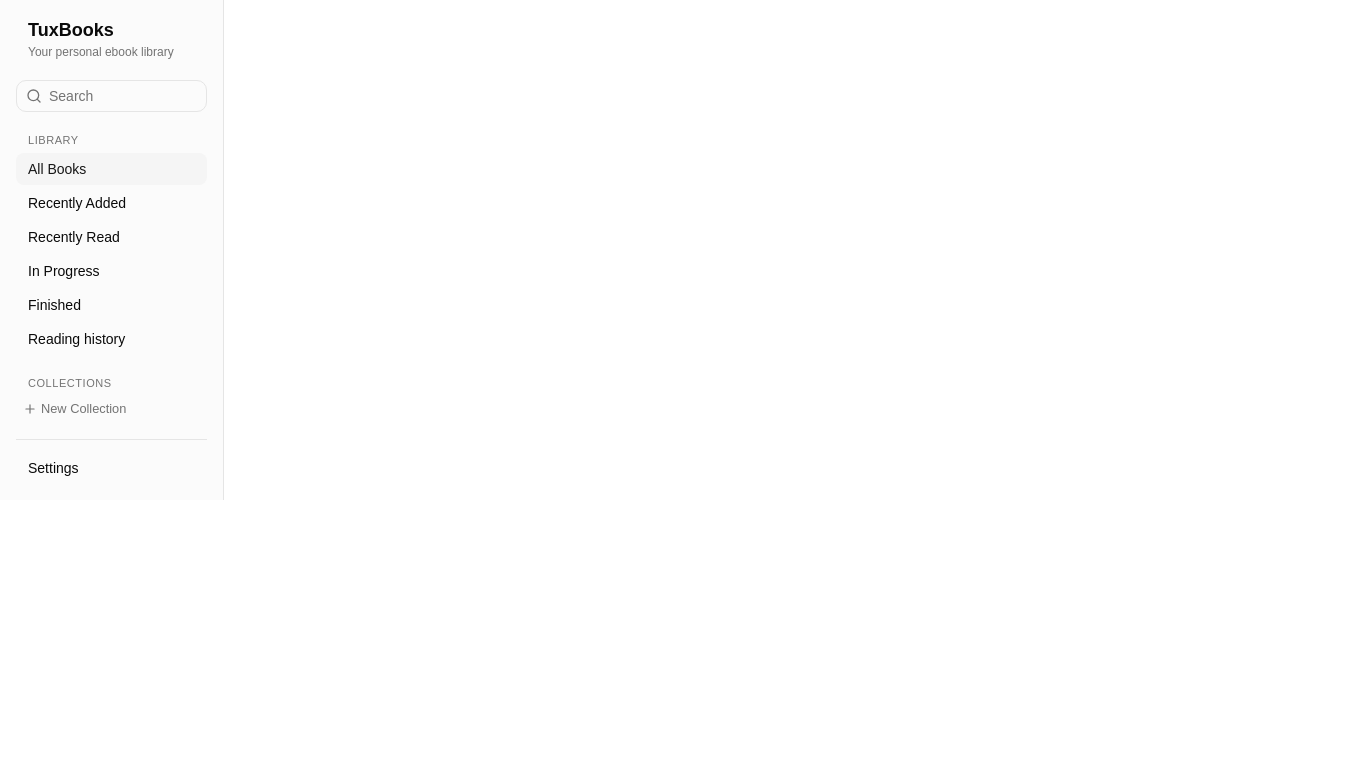
Sidebar › opens the create-collection dialog
The image size is (1366, 768).
Click the button with test id "new-collection-button".
click(112, 409)  # box [16, 395, 207, 423]
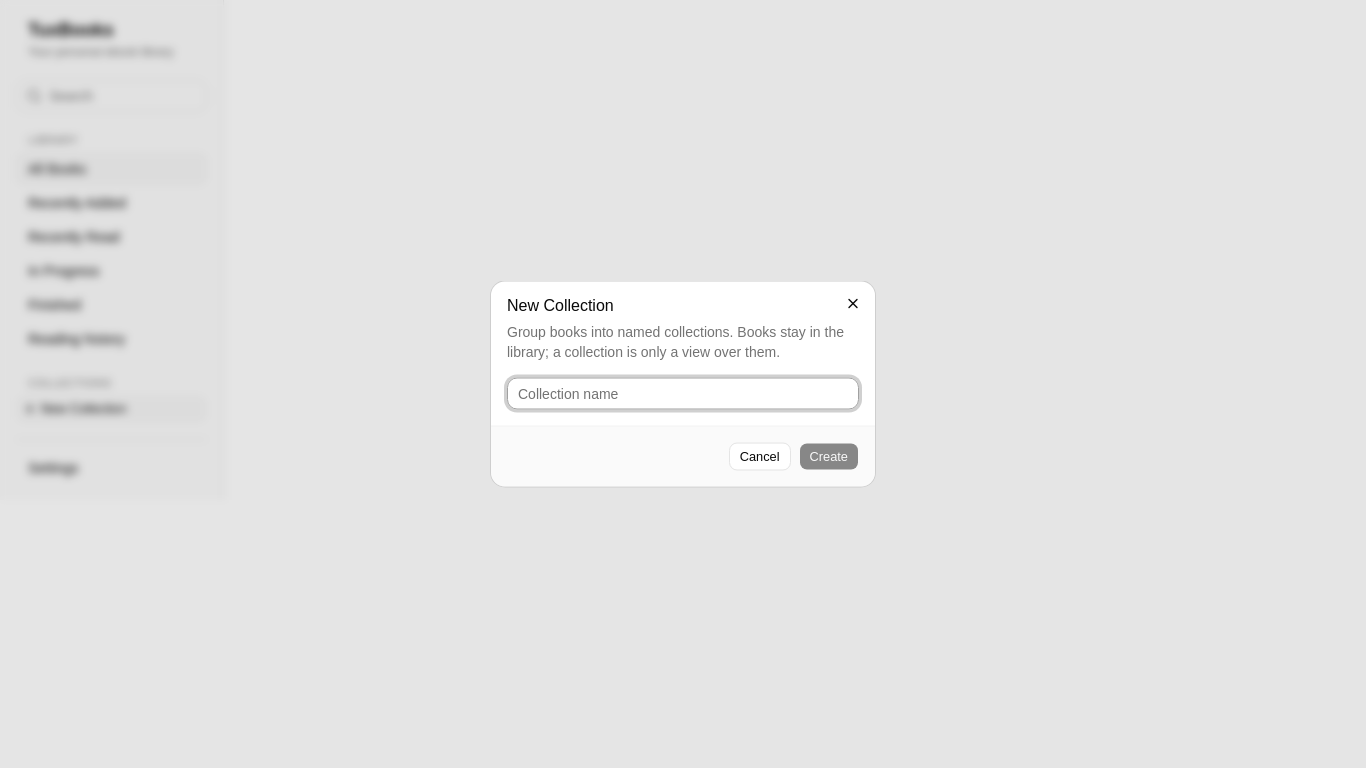
Expected: the dialog with test id "collection-dialog" is shown, [491, 282, 875, 486]
Expected: the field with test id "collection-name" is shown, [507, 378, 859, 410]
Expected: the button with test id "collection-create" is disabled, [799, 442, 859, 470]
